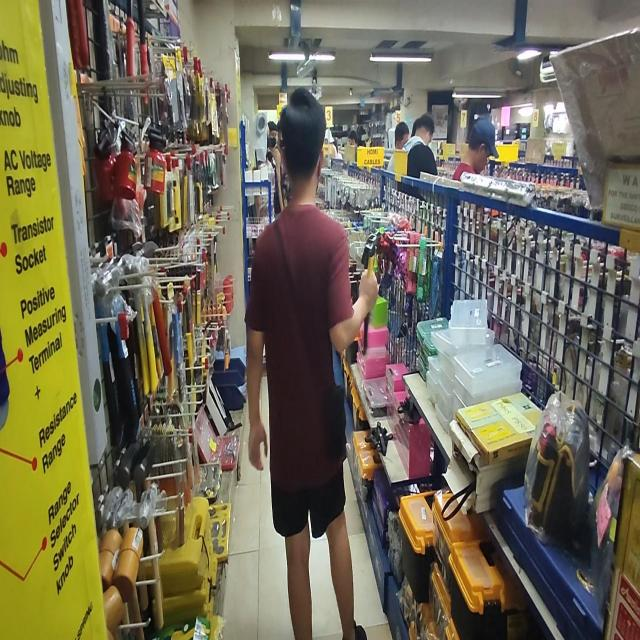hammer: (361, 229, 381, 355)
